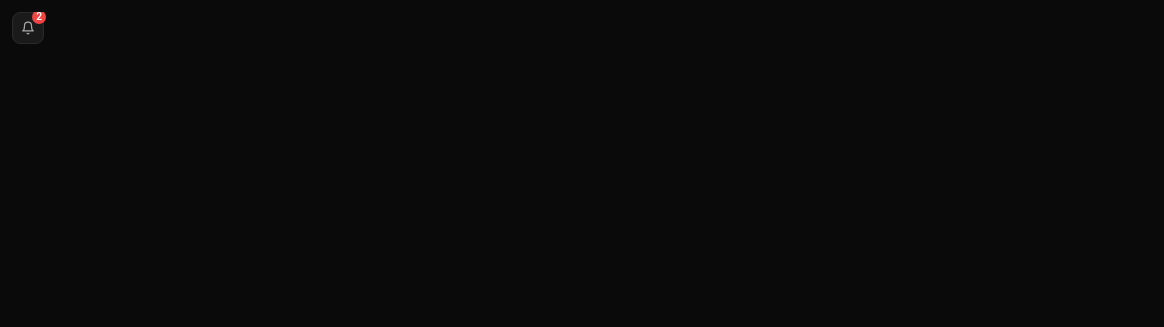
Test case: NotificationBell › opens the panel on click and lists the notifications
Click the button named "Centro notifiche".
click(28, 28)  # box [12,12,44,44]
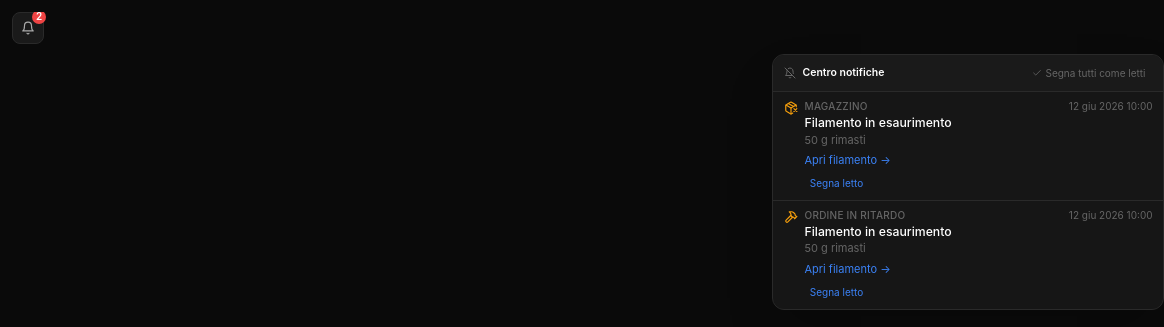
Now the text "Centro notifiche" is shown, box [784,66,884,80]
Now the text "Filamento in esaurimento" below "Magazzino" is shown, box [804,115,952,130]
